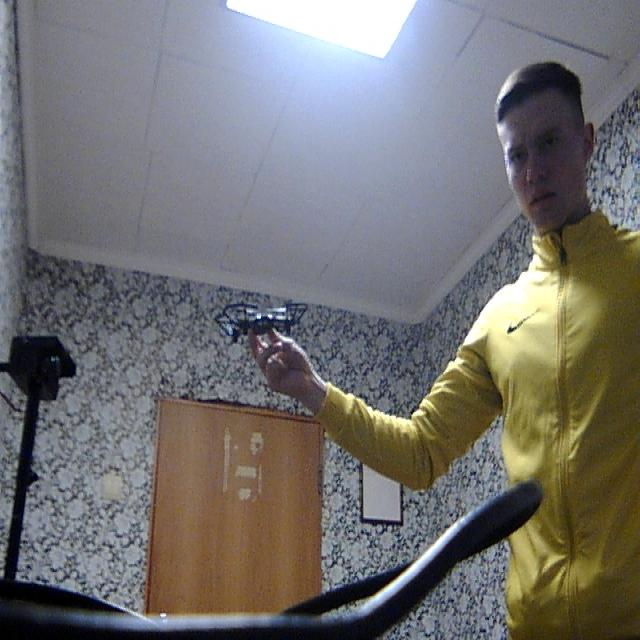drone: (208, 284, 317, 364)
